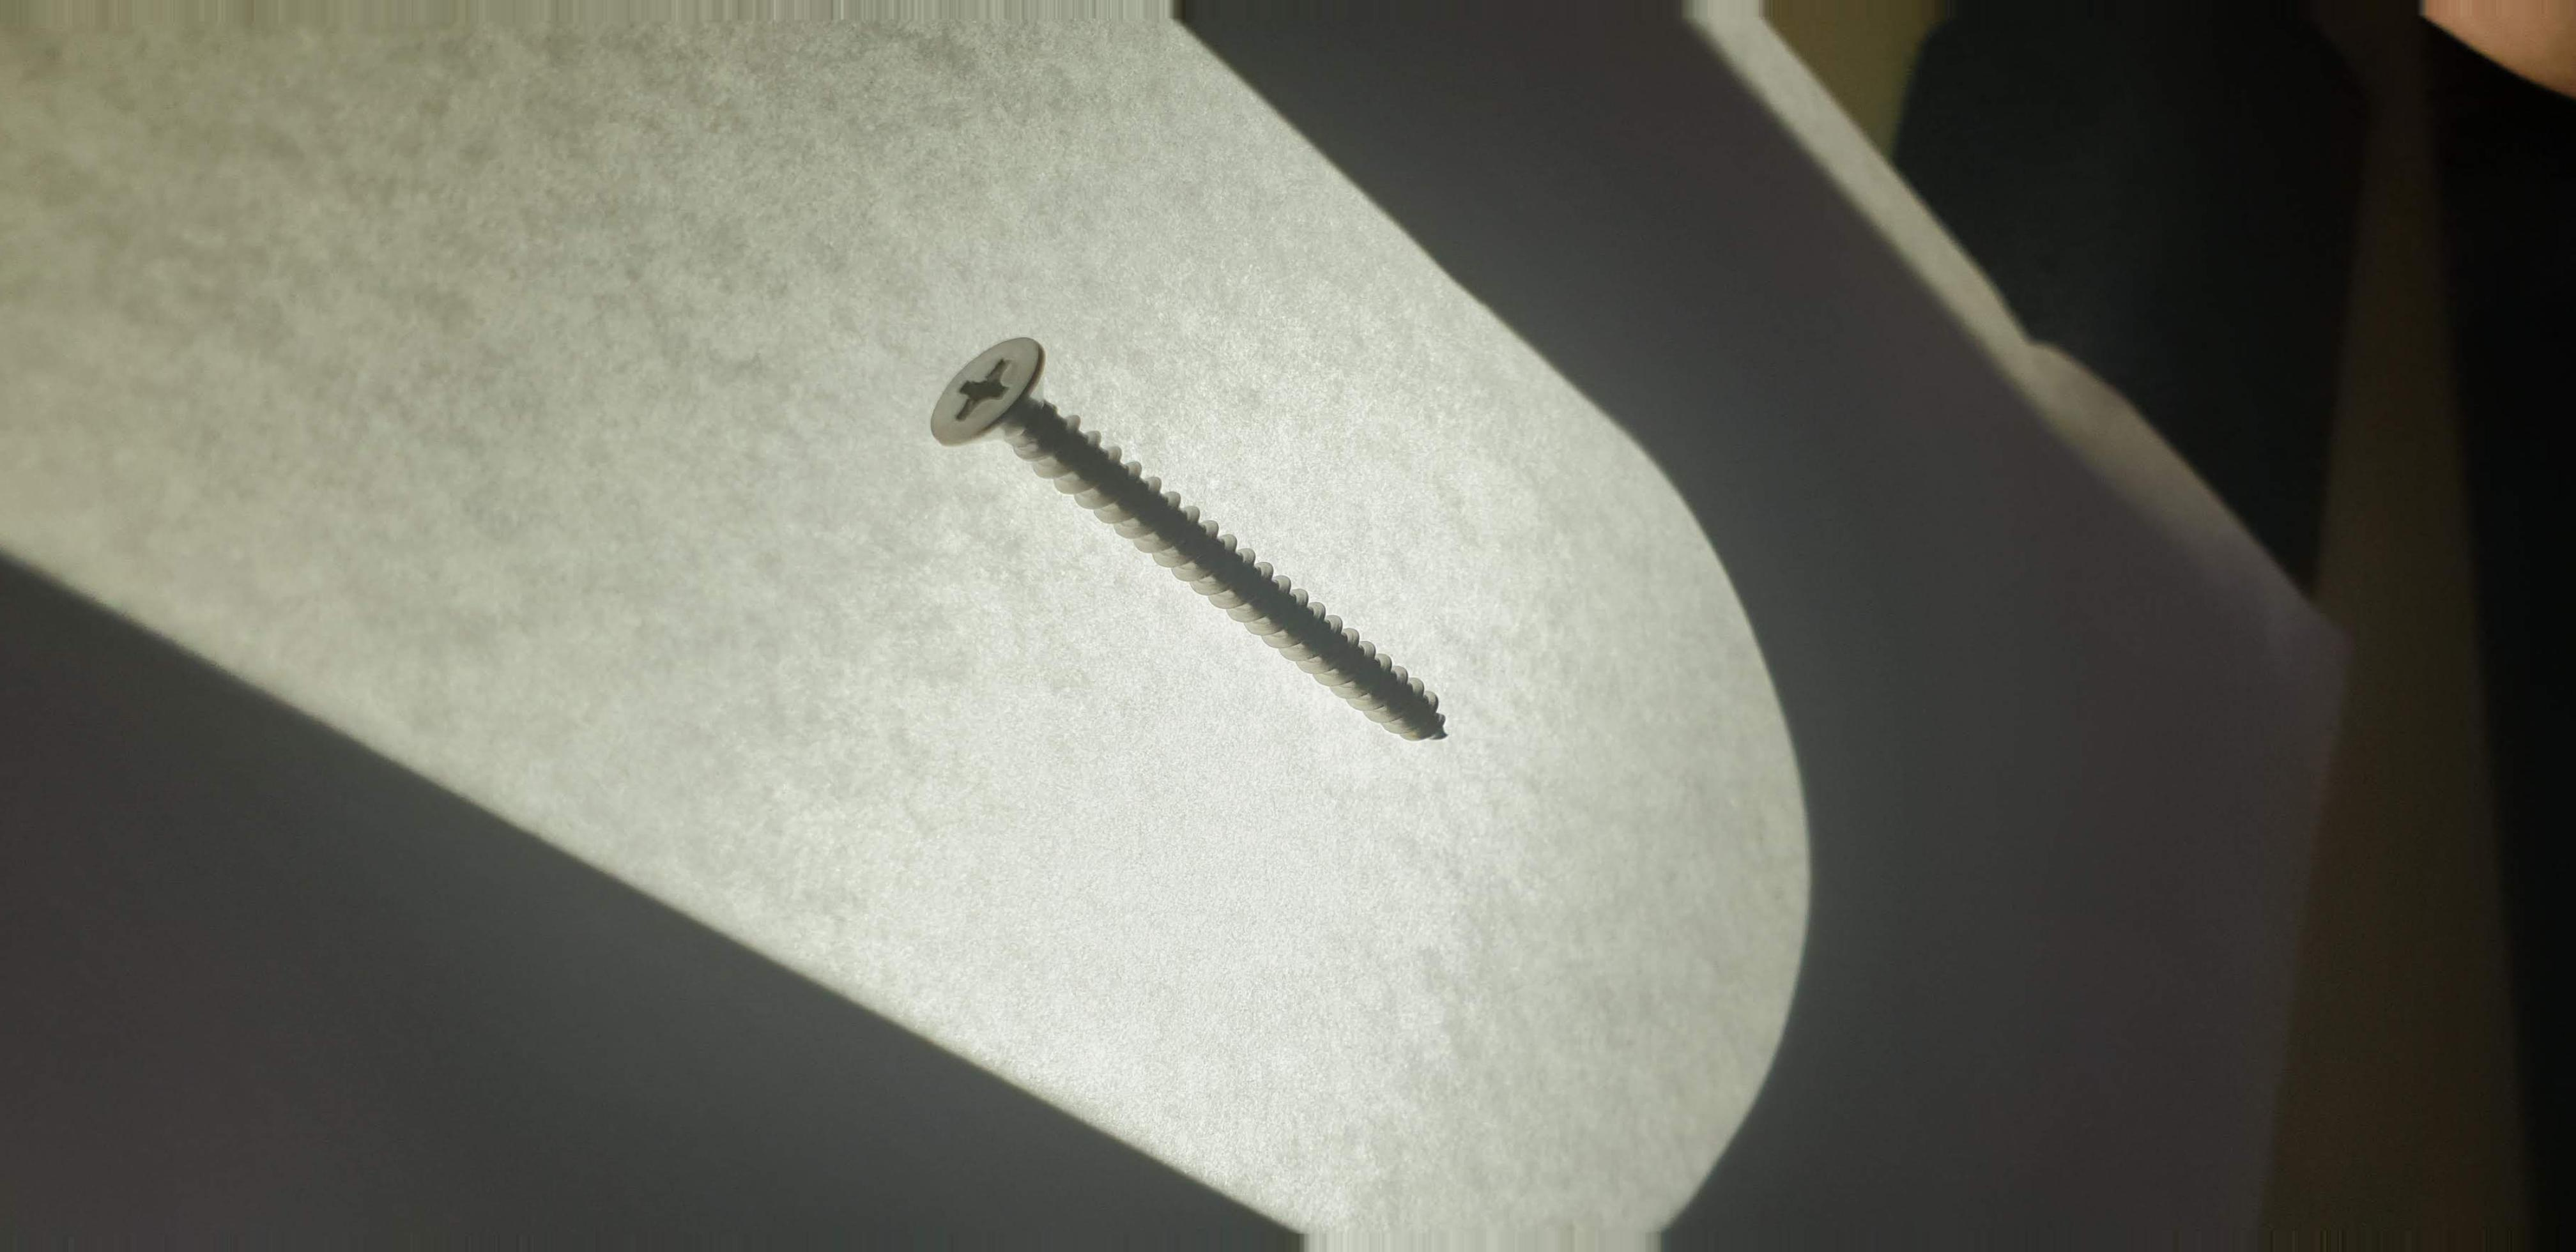S001: (915, 299, 1457, 782)
